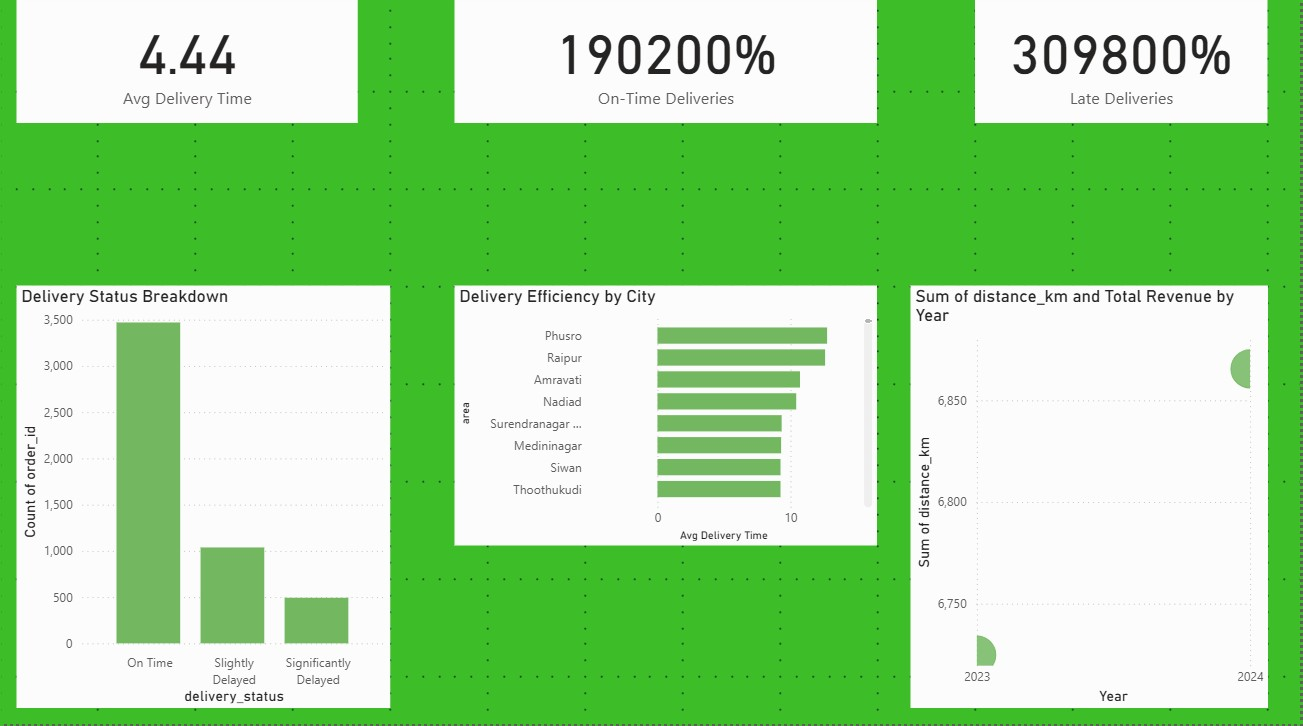

The page's visual inventory and layout, read from the dashboard file:
{"tool":"powerbi","page":{"name":"Delivery Performance","canvas":[1280,720],"ordinal":2},"visuals":[{"type":"card","fields":{"Values":["Measures (2).Avg Delivery Time"]},"box":[16,0,336,128],"z":0},{"type":"card","fields":{"Values":["Measures (2).On-Time Deliveries"]},"box":[448,0,416,128],"z":1},{"type":"card","fields":{"Values":["Measures (2).Late Deliveries"]},"box":[960,0,288,128],"z":2},{"type":"columnChart","title":"Delivery Status Breakdown","fields":{"Category":["blinkit_orders.delivery_status"],"Y":["CountNonNull(blinkit_orders.order_id)"]},"box":[16,288,368,416],"z":3},{"type":"barChart","title":"Delivery Efficiency by City","fields":{"Category":["blinkit_customers.area"],"Y":["Measures (2).Avg Delivery Time"]},"box":[448,288,416,256],"z":4},{"type":"scatterChart","fields":{"X":["blinkit_delivery_performance.actual_time.Variation.Date Hierarchy.Year","blinkit_delivery_performance.actual_time.Variation.Date Hierarchy.Quarter","blinkit_delivery_performance.actual_time.Variation.Date Hierarchy.Month","blinkit_delivery_performance.actual_time.Variation.Date Hierarchy.Day"],"Y":["Sum(blinkit_delivery_performance.distance_km)"],"Size":["Measures (2).Total Revenue"]},"box":[896,288,352,416],"z":5}]}

Visuals, with their boxes in screenshot pixels (x1, y1, x2, y2), scaled from the page's 1280x720 canvas onto the 1303x726 screenshot:
card - Measures (2).Avg Delivery Time: select_region(16, 0, 358, 129)
card - Measures (2).On-Time Deliveries: select_region(456, 0, 880, 129)
card - Measures (2).Late Deliveries: select_region(977, 0, 1270, 129)
"Delivery Status Breakdown" columnChart: select_region(16, 290, 391, 710)
"Delivery Efficiency by City" barChart: select_region(456, 290, 880, 549)
scatterChart - blinkit_delivery_performance.actual_time.Variation.Date Hierarchy.Year x blinkit_delivery_performance.actual_time.Variation.Date Hierarchy.Quarter: select_region(912, 290, 1270, 710)
